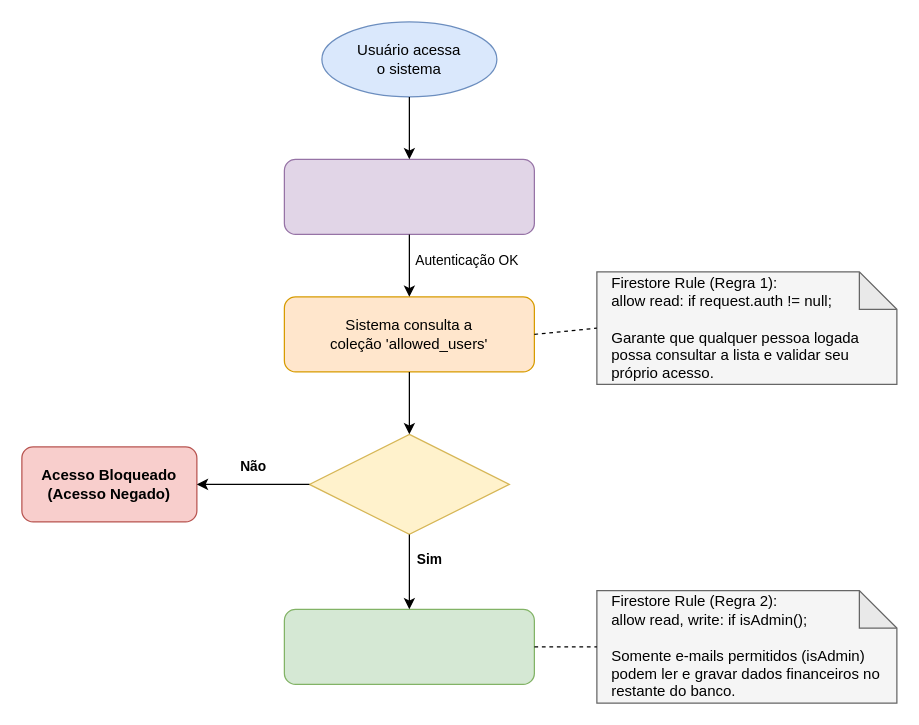
Some shapes in this 919 by 725 pixel diagram are drawn without their labels. Each missing label, with the centre of its shape:
"Acesso Liberado ao FinanceApp" goes at point (408, 646).
"Autenticação via Google (Firebase Auth)" goes at point (408, 196).
"E-mail está na Allowlist?" goes at point (408, 483).
